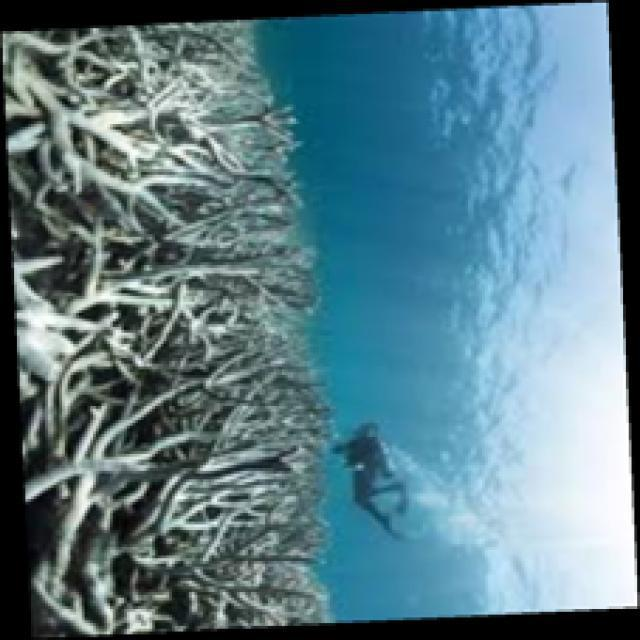Bleached: (1, 18, 334, 640)
